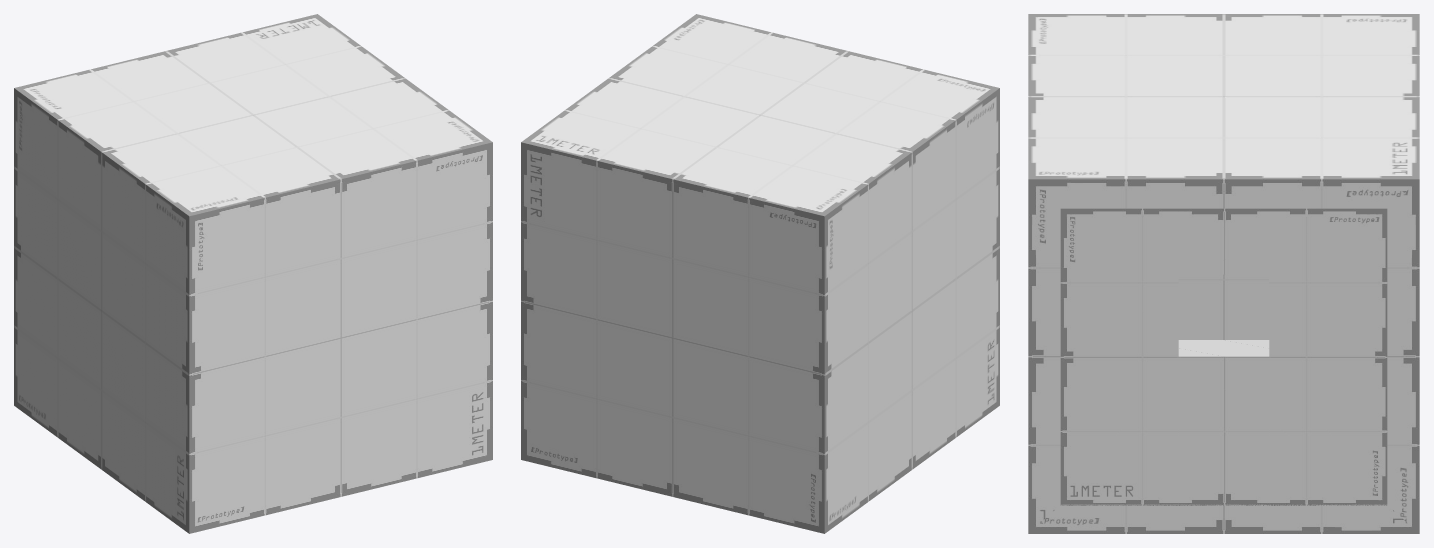
File: indoorTest3.glb
The picture shows the model from 3 angles, left to right: view 1: azimuth 30°, elevation 25°; view 2: azimuth 150°, elevation 25°; view 3: azimuth 270°, elevation 25°; orthographic projection. The views are drawn at different scales.
Visible parts, largest first — view 1: BoxWall1.003, BoxWall1.002, BoxWall1.001; view 2: BoxWall1.004, BoxWall1.002, BoxWall1.001; view 3: BoxWall1.001, BoxWall1.007, BoxWall1.008, BoxWall1.010, BoxWall1.003, BoxWall1.004, BoxWall1.005, BoxWall1.009, BoxWall1.002.
Part boxes in pixels (x1=…): BoxWall1.003: x1=189, y1=142, x2=492, y2=533; BoxWall1.002: x1=14, y1=88, x2=189, y2=533; BoxWall1.001: x1=14, y1=14, x2=492, y2=216; BoxWall1.004: x1=521, y1=142, x2=824, y2=533; BoxWall1.002: x1=824, y1=88, x2=999, y2=533; BoxWall1.001: x1=521, y1=14, x2=999, y2=216; BoxWall1.001: x1=1028, y1=14, x2=1419, y2=208; BoxWall1.007: x1=1060, y1=208, x2=1178, y2=505; BoxWall1.008: x1=1269, y1=208, x2=1387, y2=505; BoxWall1.010: x1=1178, y1=340, x2=1269, y2=505; BoxWall1.003: x1=1028, y1=179, x2=1060, y2=533; BoxWall1.004: x1=1387, y1=179, x2=1419, y2=533; BoxWall1.005: x1=1029, y1=504, x2=1418, y2=533; BoxWall1.009: x1=1178, y1=208, x2=1268, y2=274; BoxWall1.002: x1=1178, y1=274, x2=1269, y2=339.
Bounding box in the file's own units: 4.4 × 4.4 × 4.4.
Materials: 1 (1 with a texture image).
